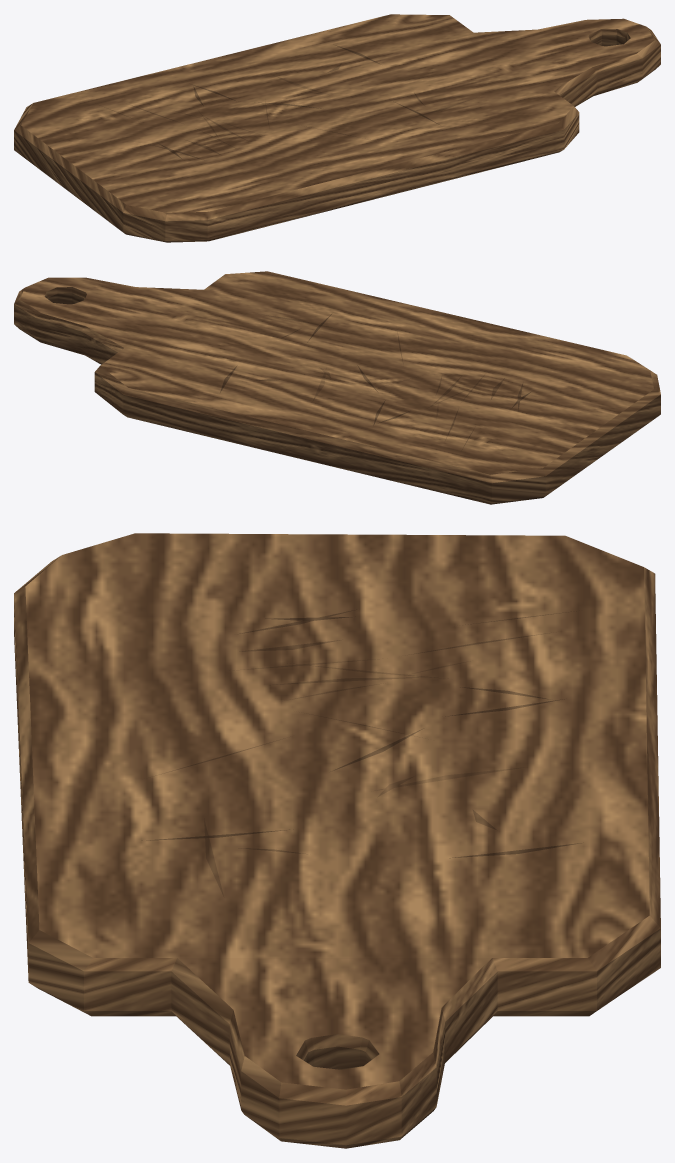
The model's file is Tabua-de-Cortar.glb.
The picture shows the model from 3 angles, top to bottom: view 1: azimuth 30°, elevation 25°; view 2: azimuth 150°, elevation 25°; view 3: azimuth 270°, elevation 25°; orthographic projection. The views are drawn at different scales.
Visible parts, largest first — view 1: Tábua, Bordas, Cabo, Marcas de corte, Furo do cabo; view 2: Tábua, Bordas, Cabo, Marcas de corte, Furo do cabo; view 3: Tábua, Bordas, Cabo, Marcas de corte, Furo do cabo.
Boxes of the visible parts, <box> form: Tábua: <box>21,14,573,212</box>; Bordas: <box>14,27,660,242</box>; Cabo: <box>474,18,654,90</box>; Marcas de corte: <box>99,44,476,160</box>; Furo do cabo: <box>588,29,630,46</box>; Tábua: <box>100,271,653,474</box>; Bordas: <box>14,288,660,504</box>; Cabo: <box>20,277,203,347</box>; Marcas de corte: <box>220,313,531,450</box>; Furo do cabo: <box>44,287,86,304</box>; Tábua: <box>25,533,649,957</box>; Bordas: <box>14,556,660,1148</box>; Cabo: <box>178,958,491,1089</box>; Marcas de corte: <box>141,609,583,897</box>; Furo do cabo: <box>296,1034,379,1069</box>.
Size of the model in its own units: 0.46 by 0.0222 by 0.222.
Materials: 2 (2 with a texture image).
